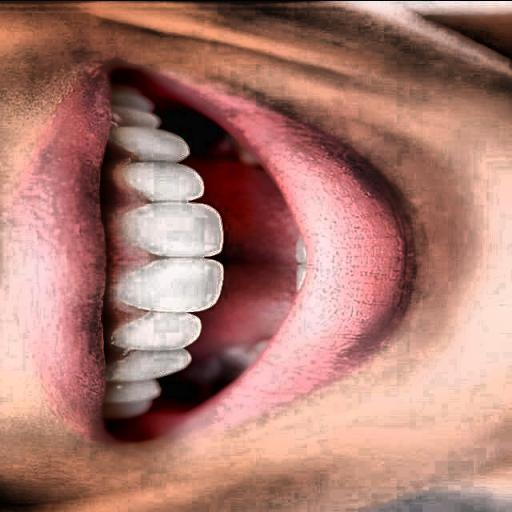Healthy: (50, 54, 391, 411)
